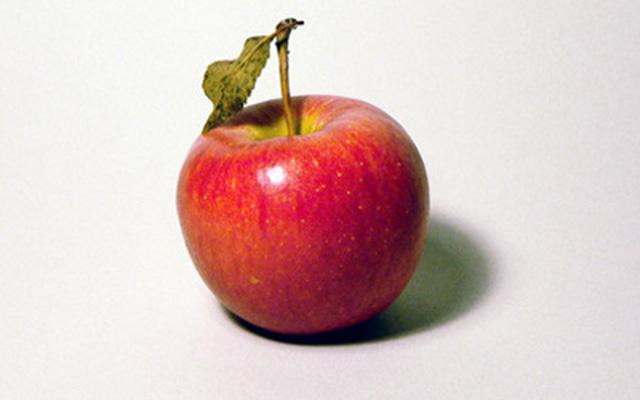apples: (174, 20, 430, 340)
